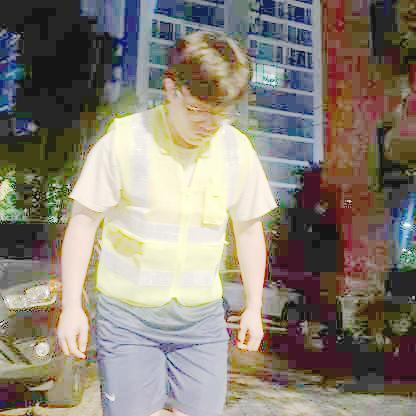no-helmet: (164, 27, 253, 124)
vest: (95, 103, 256, 308)
